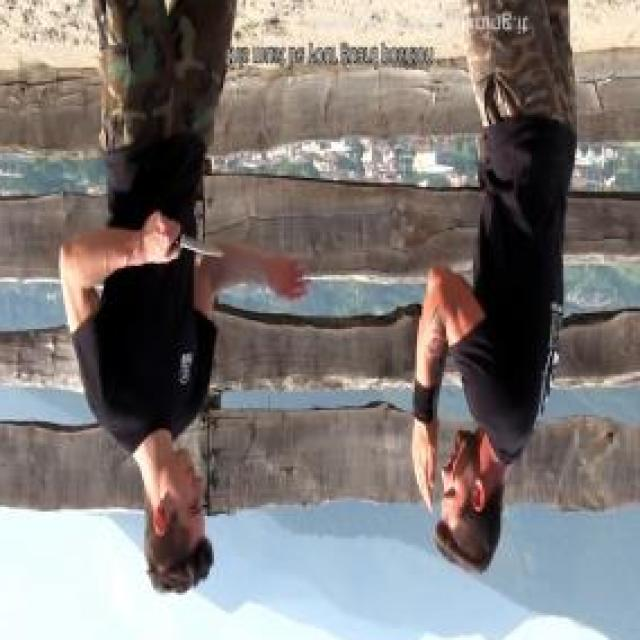knife: (144, 206, 229, 268)
